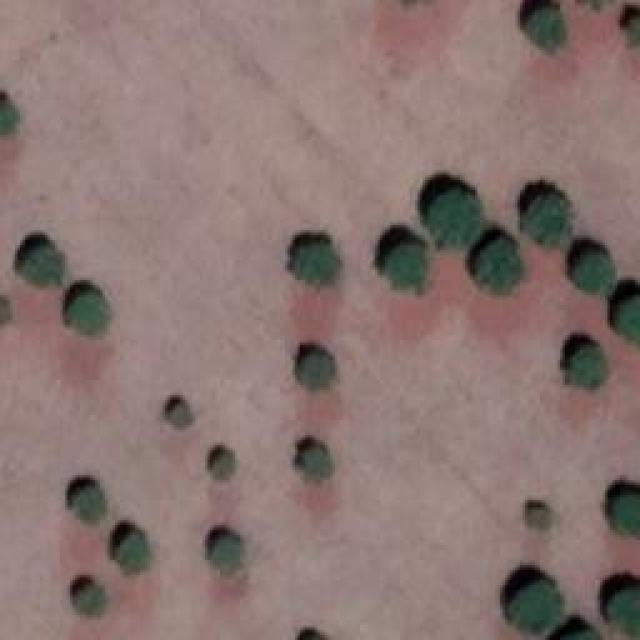Tree: (433, 193, 486, 246), (480, 240, 530, 293), (523, 193, 573, 246), (513, 580, 566, 630), (383, 245, 433, 295), (562, 345, 610, 390), (570, 250, 613, 298), (293, 240, 338, 285), (68, 290, 111, 335), (22, 245, 70, 283), (532, 8, 570, 51), (612, 488, 640, 541), (610, 590, 640, 638), (73, 583, 106, 616), (115, 538, 148, 571), (617, 297, 640, 344), (73, 493, 108, 523), (303, 353, 333, 388), (302, 448, 330, 481), (525, 505, 558, 533), (218, 538, 248, 568), (0, 98, 18, 138), (210, 450, 233, 475), (170, 405, 193, 428)
